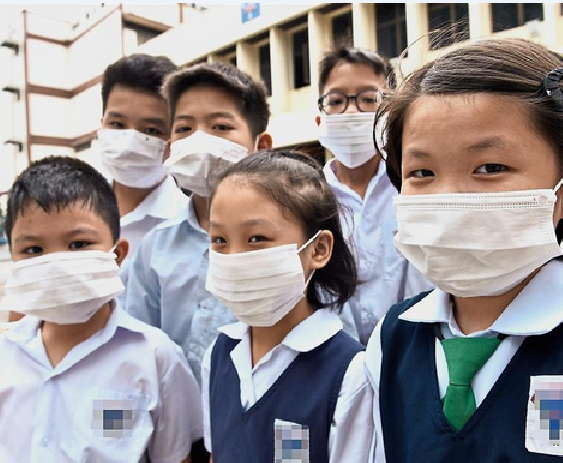with_mask: (395, 75, 563, 298), (4, 170, 129, 323), (203, 170, 330, 315), (164, 78, 260, 199), (88, 74, 170, 191), (320, 53, 393, 166)
